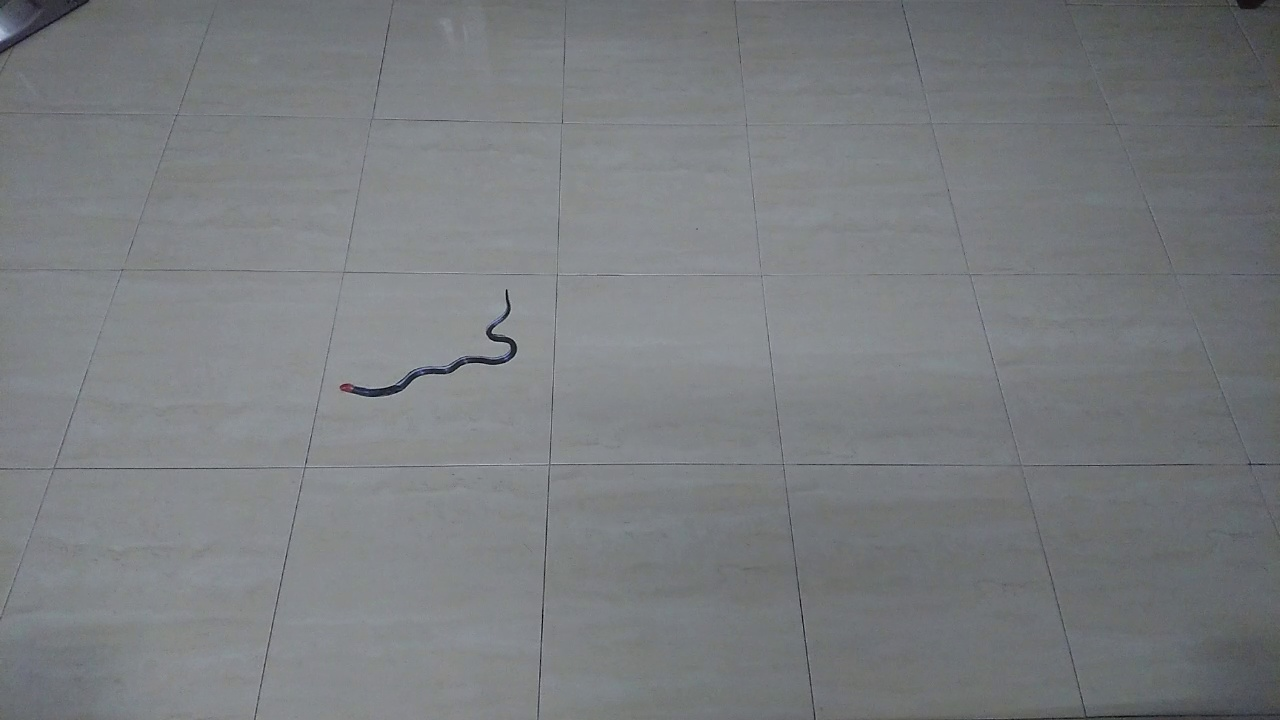snake: (330, 274, 534, 414)
